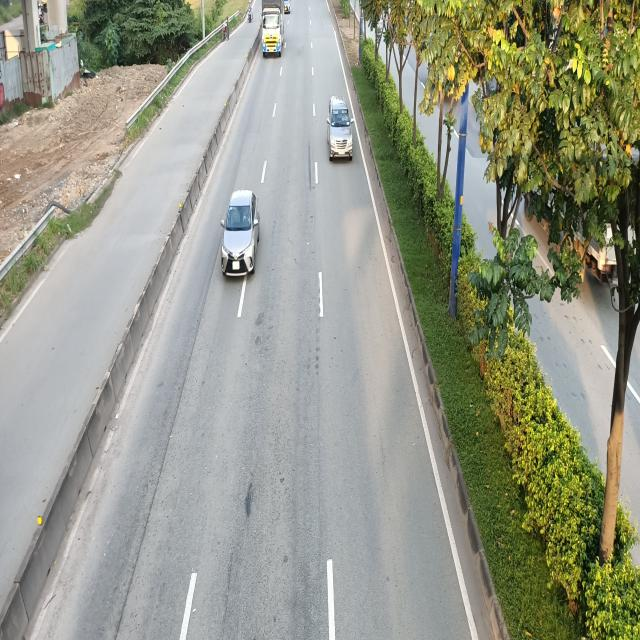car: (218, 189, 258, 276), (328, 98, 356, 163)
truck: (260, 0, 286, 56)
